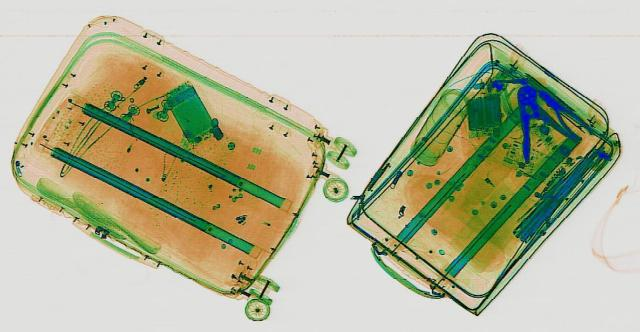Pliers: (494, 83, 588, 162)
